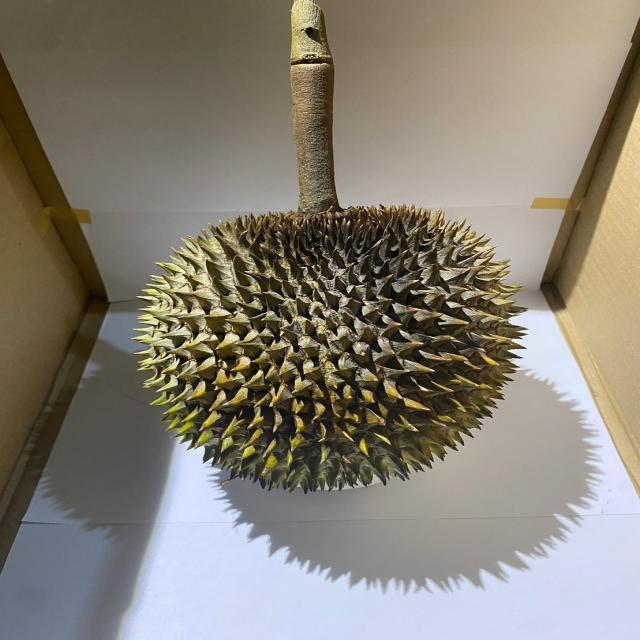immature: (132, 202, 532, 496)
